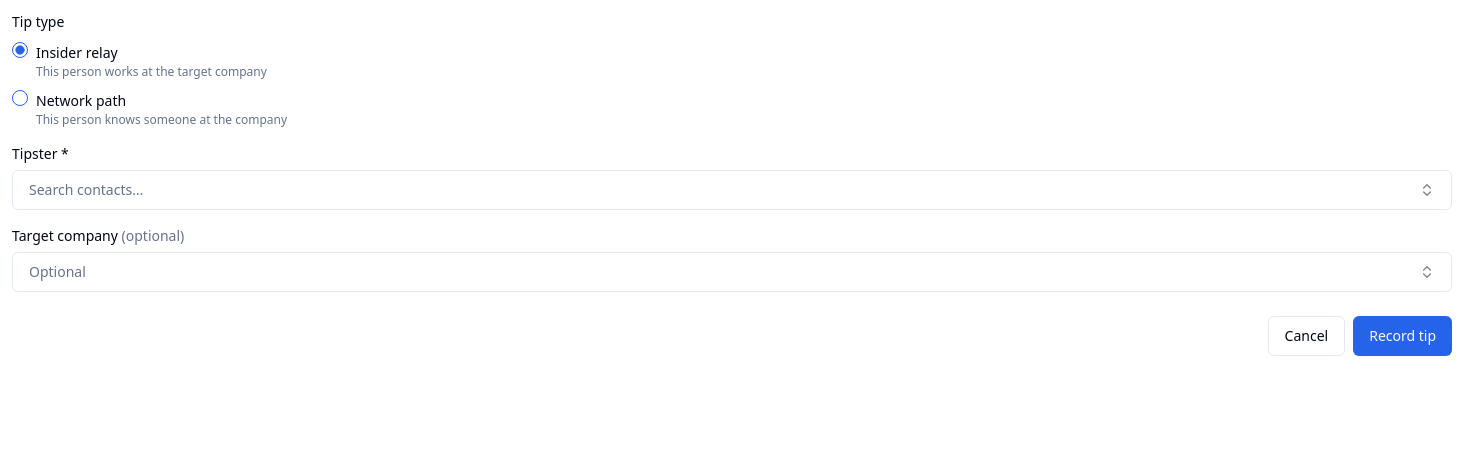
Test: TipCaptureForm — conditional insider field › reveals insider ContactPicker when network_path is selected
Click the radio button named "network path" next to "Network path". click: (20, 98)
box: [12,90,28,106]
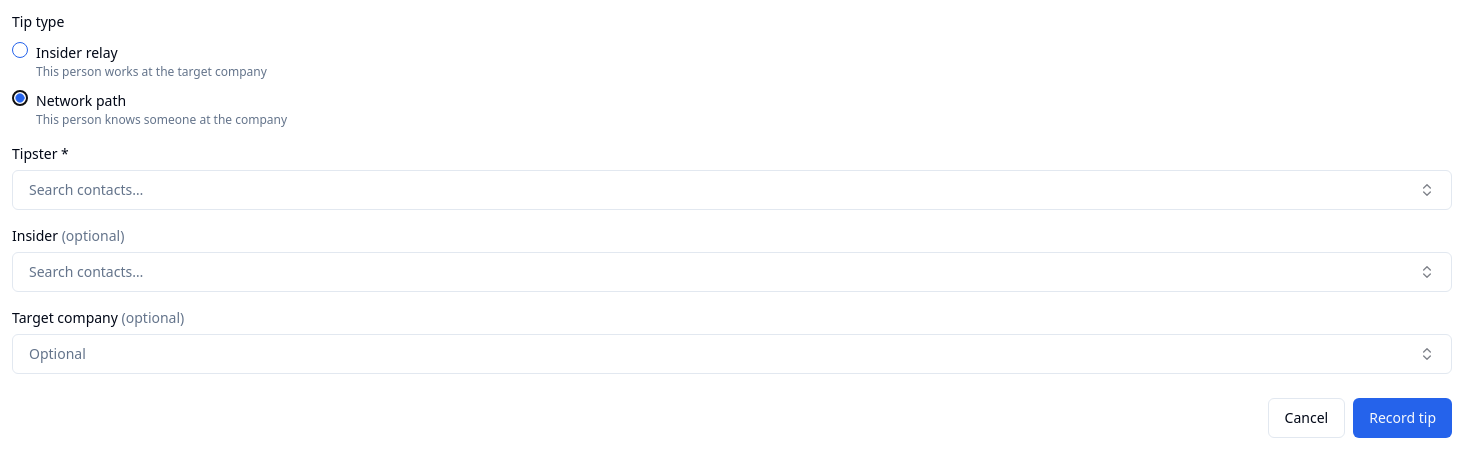
Check: the dropdown named "insider" is shown, box [12,252,1452,292]
